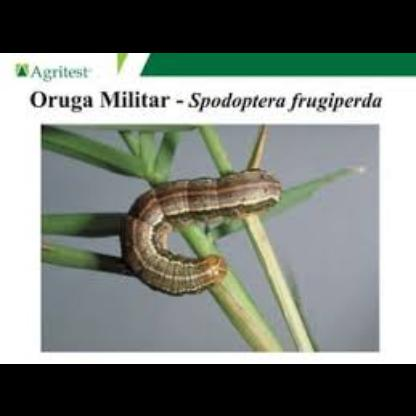oruga: (113, 166, 283, 292)
